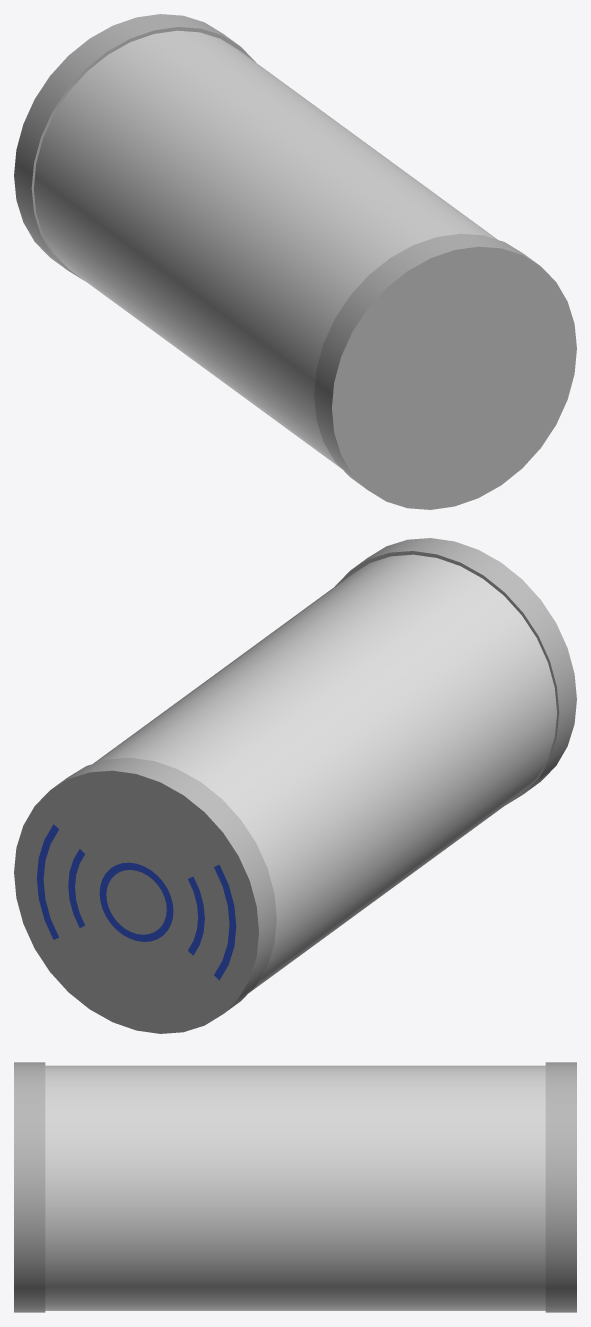
The model's file is TransmissionQueue.fbx.
3 renders of one model, top to bottom at view 1: azimuth 30°, elevation 25°; view 2: azimuth 150°, elevation 25°; view 3: azimuth 270°, elevation 25°, orthographic. The views are drawn at different scales.
Visible parts, largest first — view 1: TransmissionQueue; view 2: TransmissionQueue; view 3: TransmissionQueue.
Part boxes in pixels (x1,y1,x2,y2): TransmissionQueue: [14, 14, 576, 509]; TransmissionQueue: [14, 538, 576, 1033]; TransmissionQueue: [14, 1062, 576, 1312].
Bounding box in the file's own units: 200 × 200 × 449.
